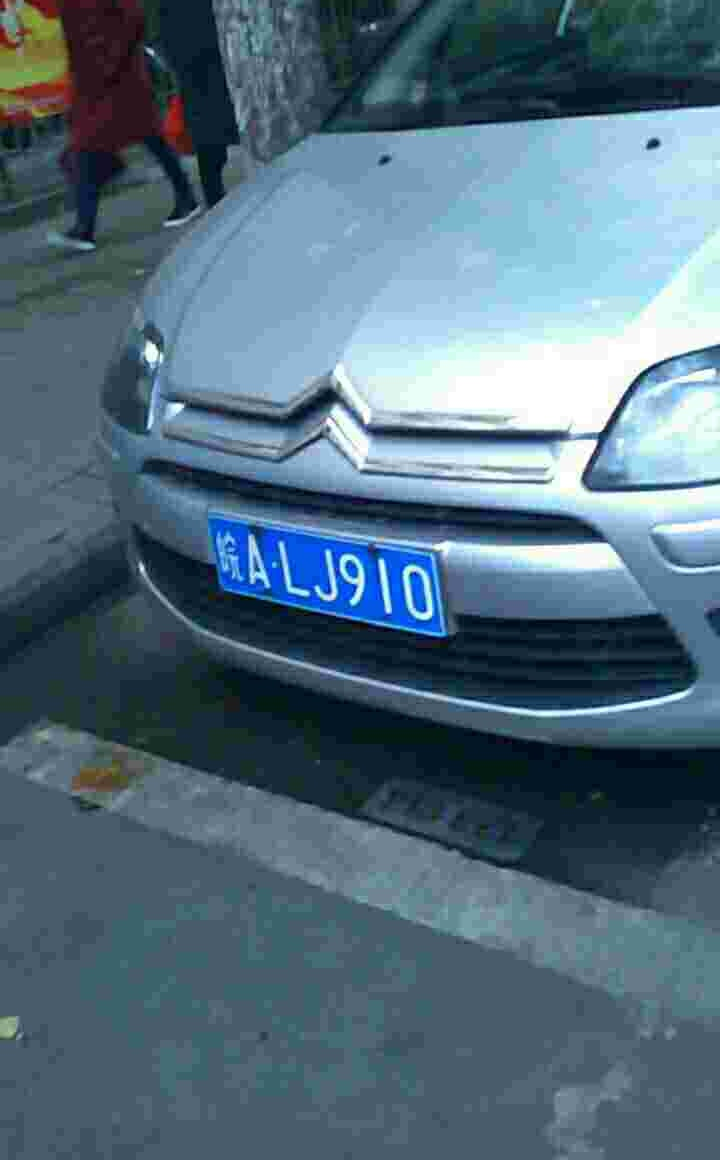license_plate: (195, 506, 451, 625)
